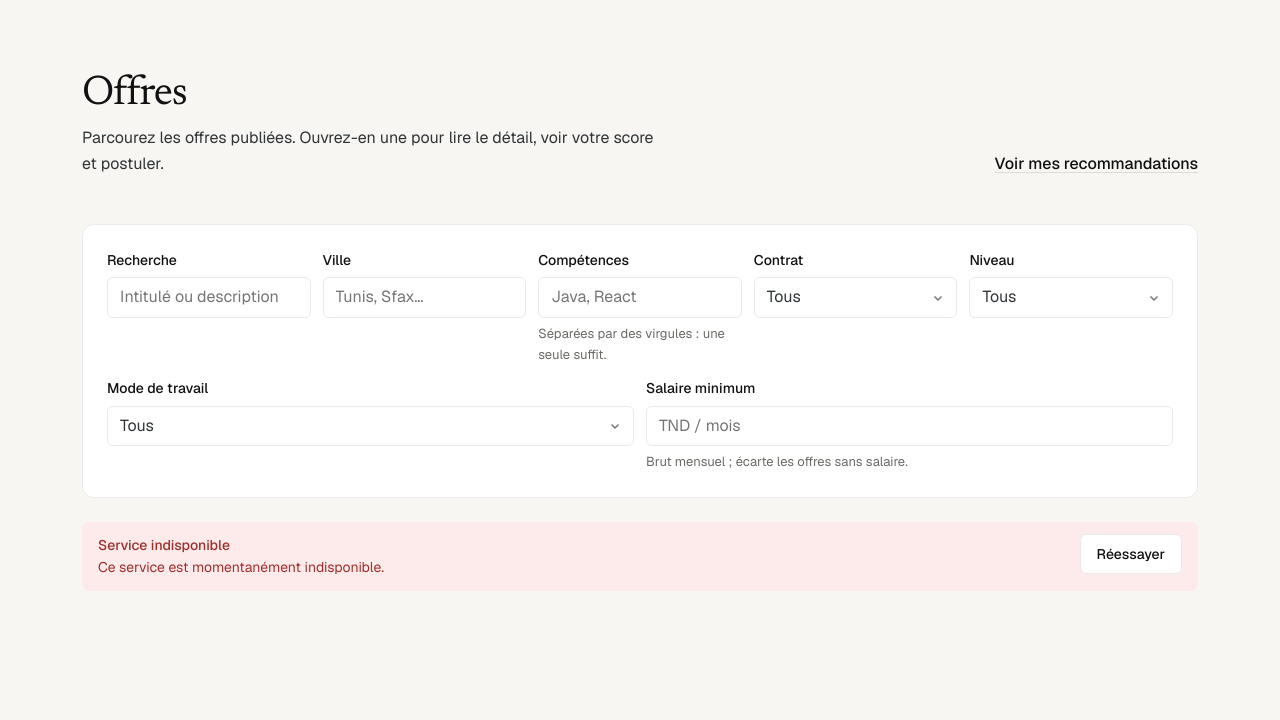
Test: job search › shows an error with a retry
Expected: the text "Service indisponible" is shown, [98,536,230,554]
Click the button "Réessayer" at (1131, 554), box [1080,534,1182,574]
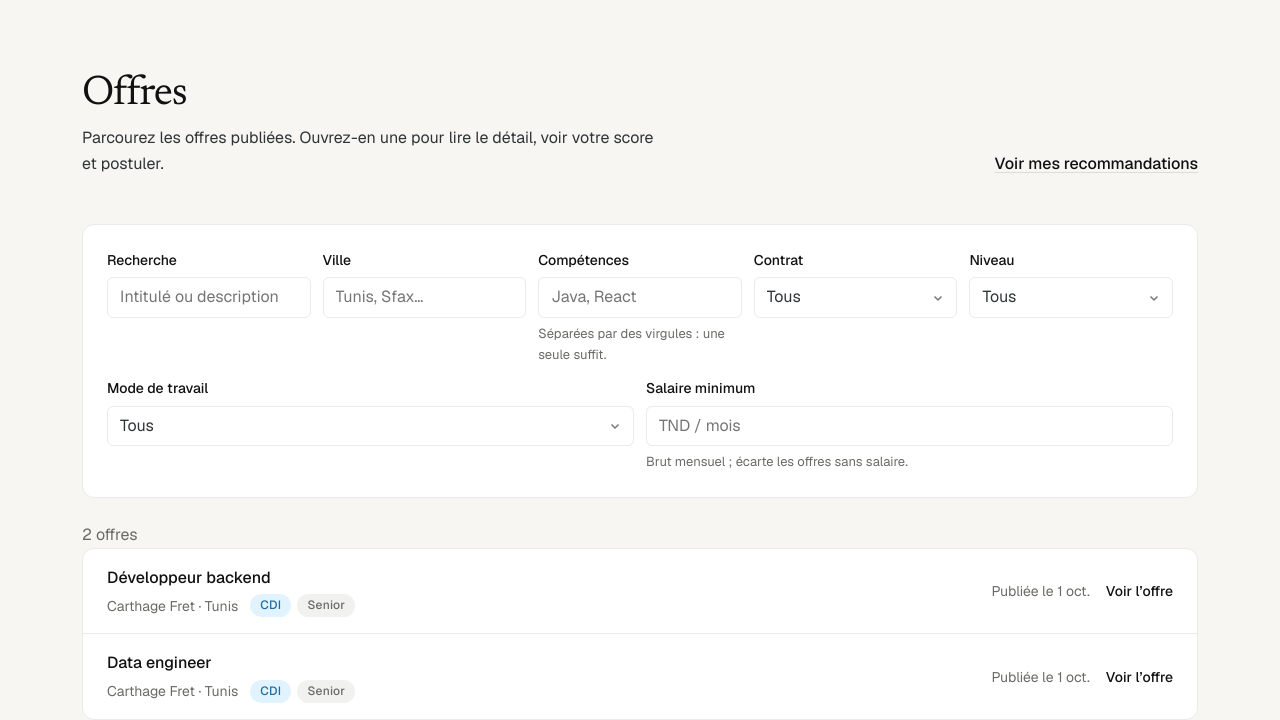
Result: the text "2 offres" is shown at [82,524,138,545]
